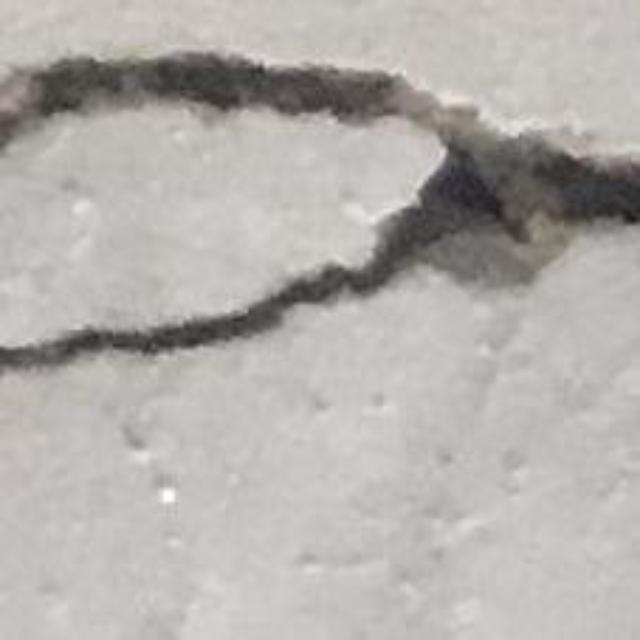crack: (0, 54, 639, 369)
